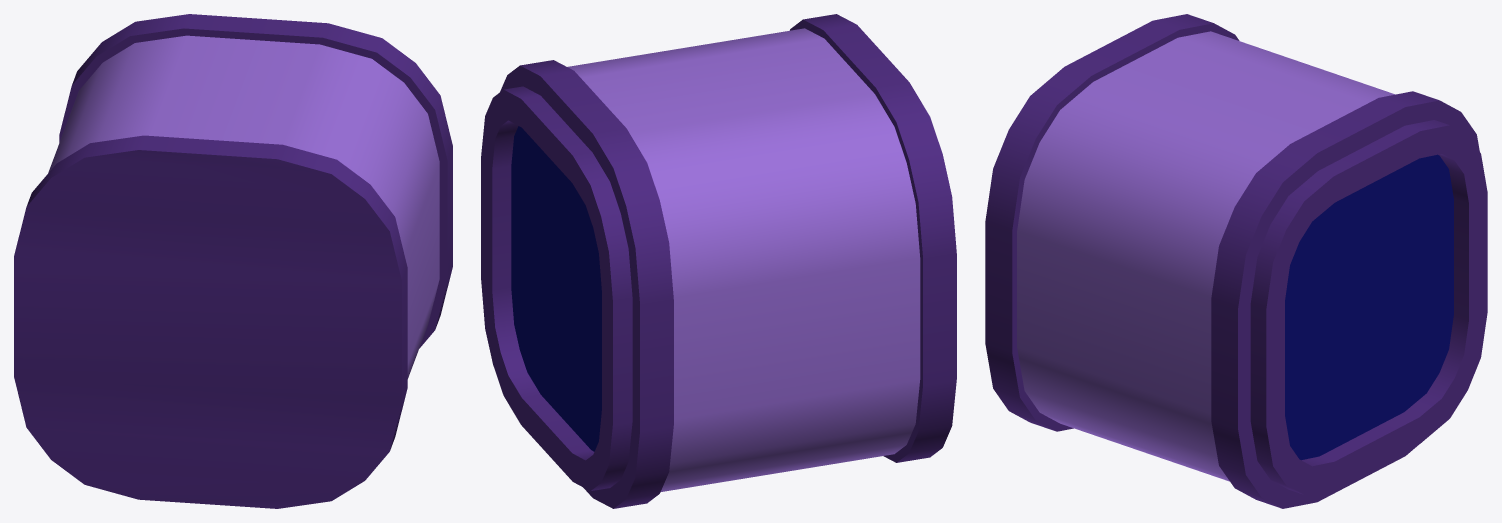
File: SM_multitool.fbx
The picture shows the model from 3 angles, left to right: view 1: azimuth 30°, elevation 25°; view 2: azimuth 150°, elevation 25°; view 3: azimuth 270°, elevation 25°; orthographic projection. The views are drawn at different scales.
Parts seen in each view (by area): view 1: SM_multitool; view 2: SM_multitool; view 3: SM_multitool.
Part boxes in pixels (box(x1,y1,x2,y2)): SM_multitool: box(14, 14, 452, 508); SM_multitool: box(481, 14, 956, 508); SM_multitool: box(985, 14, 1487, 508).
Size of the model in its own units: 2.19 by 1.66 by 2.16.
